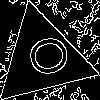O: (18, 33, 71, 82)
